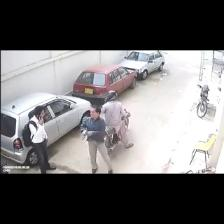person: (81, 105, 112, 173), (29, 106, 56, 173), (102, 91, 133, 148)
